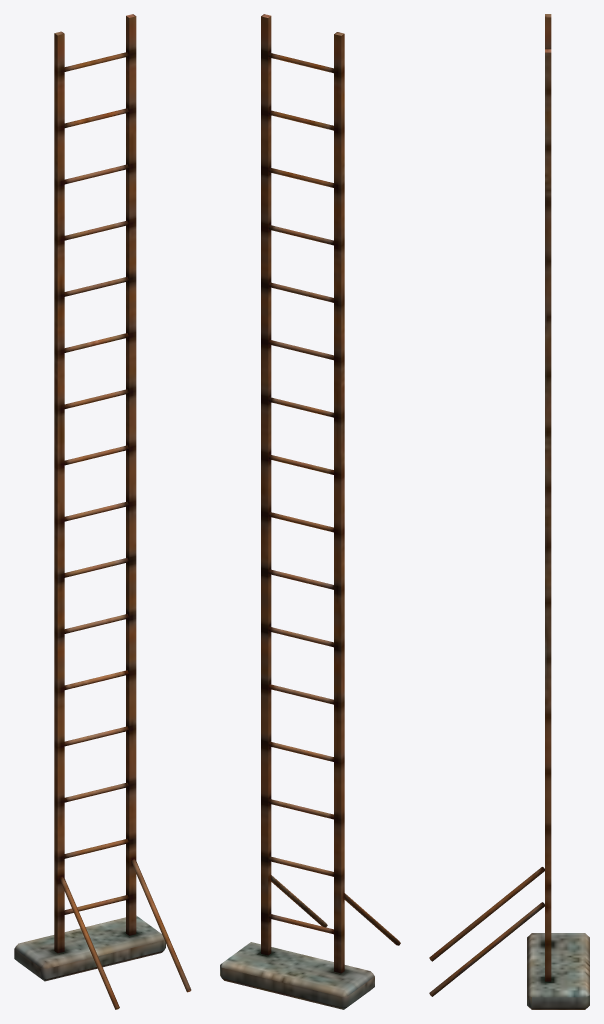
The model's file is escada_poco.glb.
3 renders of one model, left to right at view 1: azimuth 30°, elevation 25°; view 2: azimuth 150°, elevation 25°; view 3: azimuth 270°, elevation 25°, orthographic. The views are drawn at different scales.
Parts seen in each view (by area): view 1: escada_poco; view 2: escada_poco; view 3: escada_poco.
Part boxes in pixels (bbox=[...]): escada_poco: bbox=[14, 14, 191, 1009]; escada_poco: bbox=[220, 14, 400, 1009]; escada_poco: bbox=[429, 14, 589, 1009].
Size of the model in its own units: 0.7 by 5 by 0.7686.
Materials: 1 (1 with a texture image).
